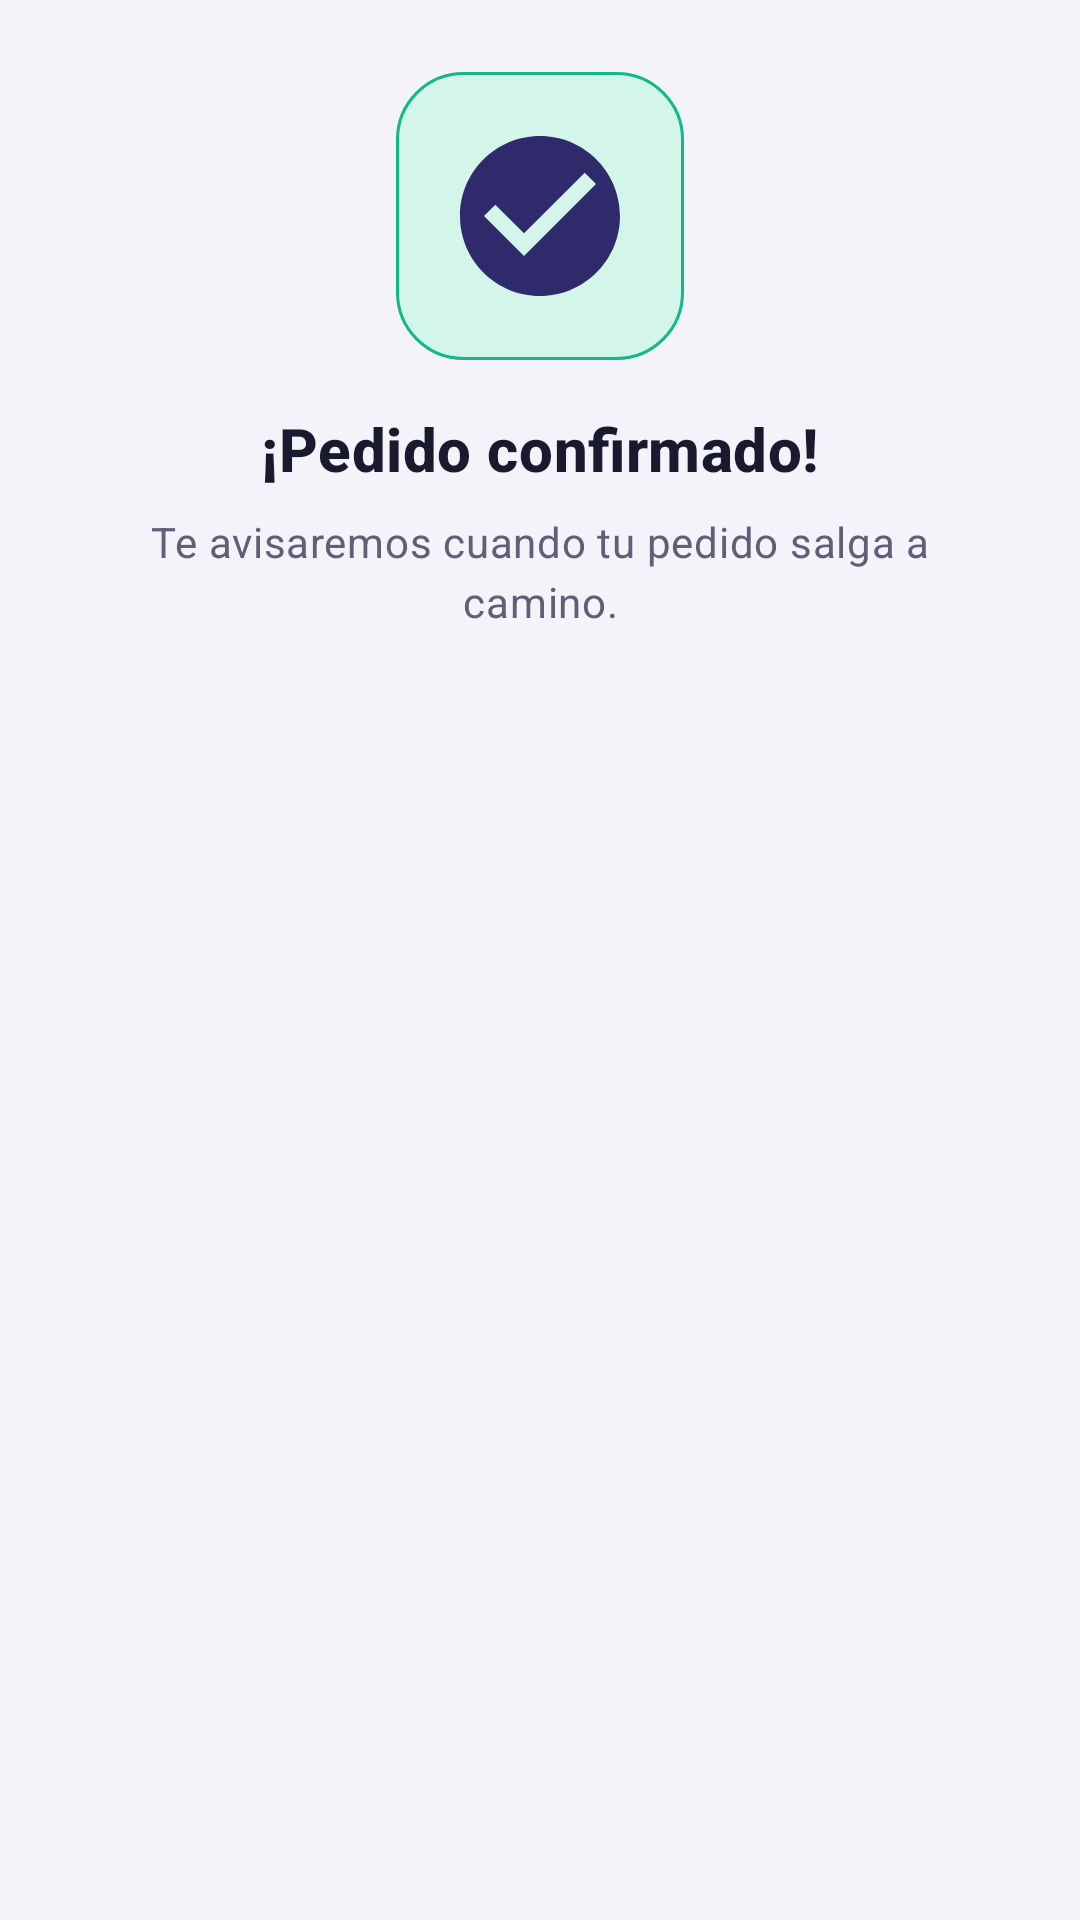

Where to tap for icons on this 1080×1920 app screen, as (x=x, y=y):
check circle: (x=540, y=216)
